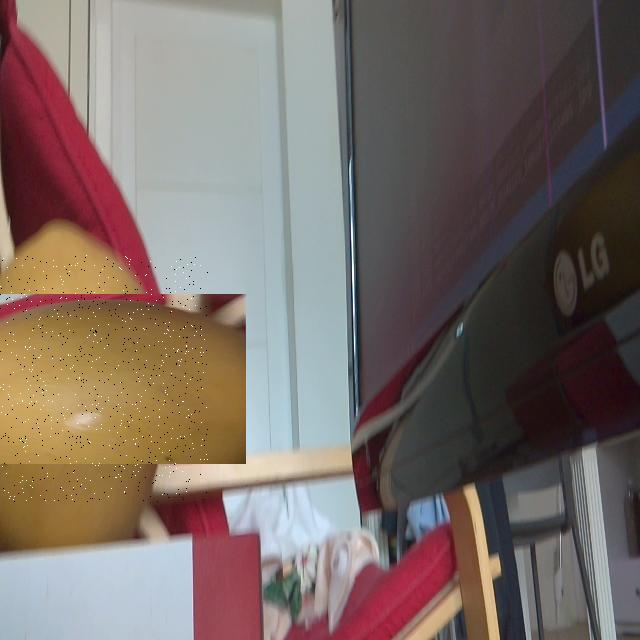pear: (0, 255, 208, 502)
